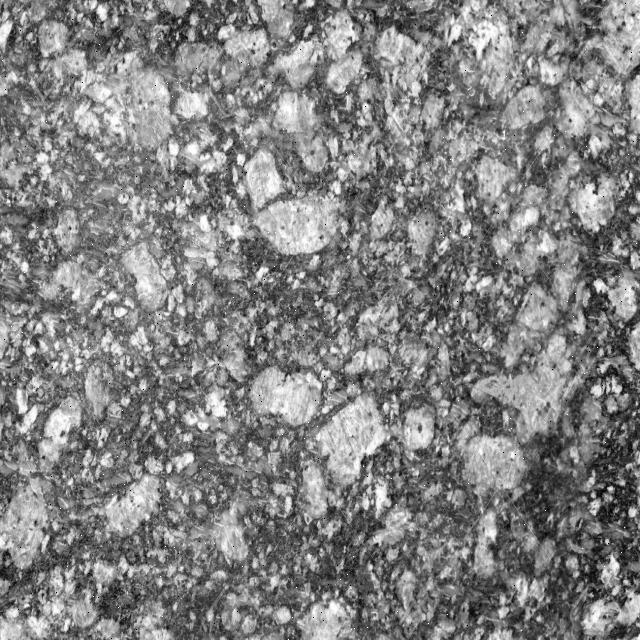Igneous: (1, 1, 632, 636)
